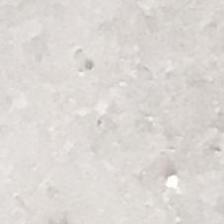Non_Crack: (21, 27, 208, 185)
